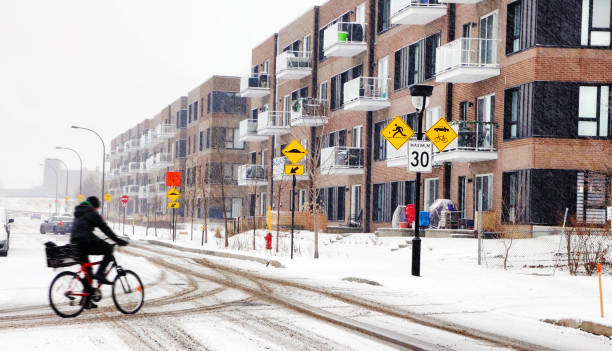pedestrian: (382, 116, 413, 151)
speed-breaker: (283, 139, 307, 165), (165, 188, 181, 201)
